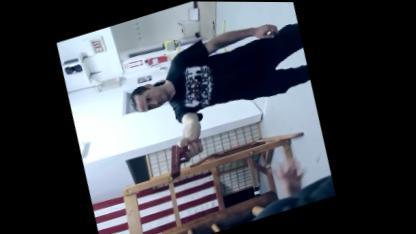pistol: (164, 136, 212, 178)
